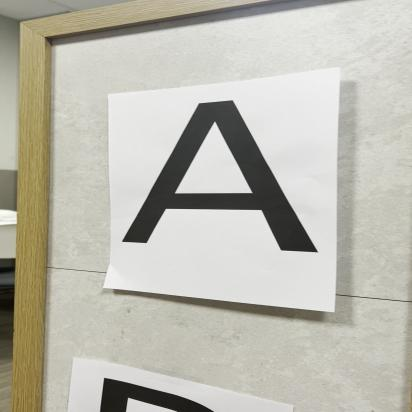seat: (122, 91, 320, 269)
